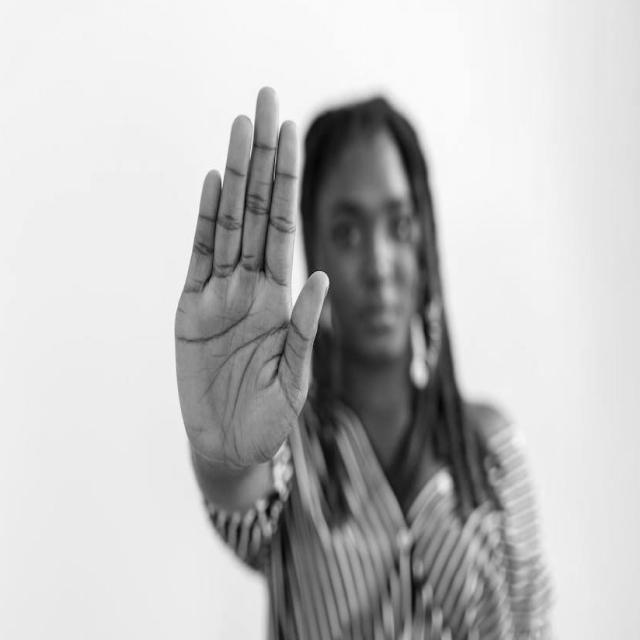stop: (170, 76, 332, 481)
